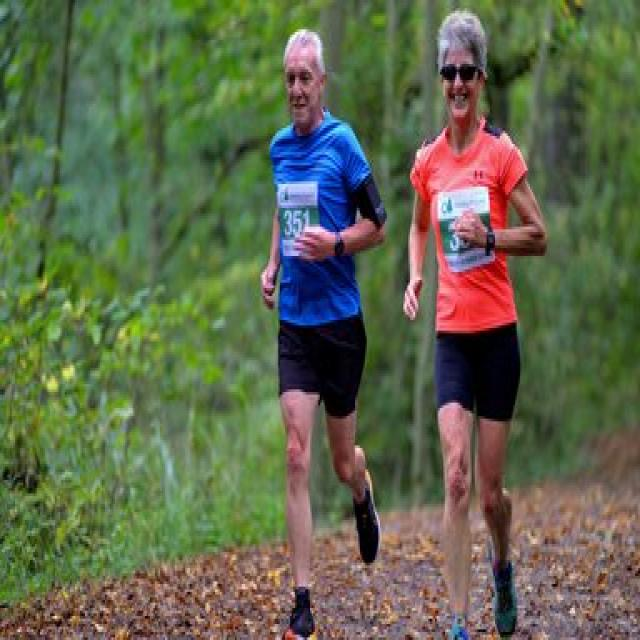running: (401, 9, 549, 640), (256, 28, 388, 639)
